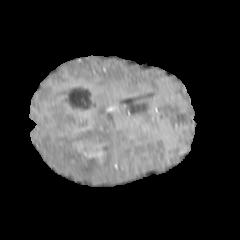glioma: (40, 107, 127, 181)
